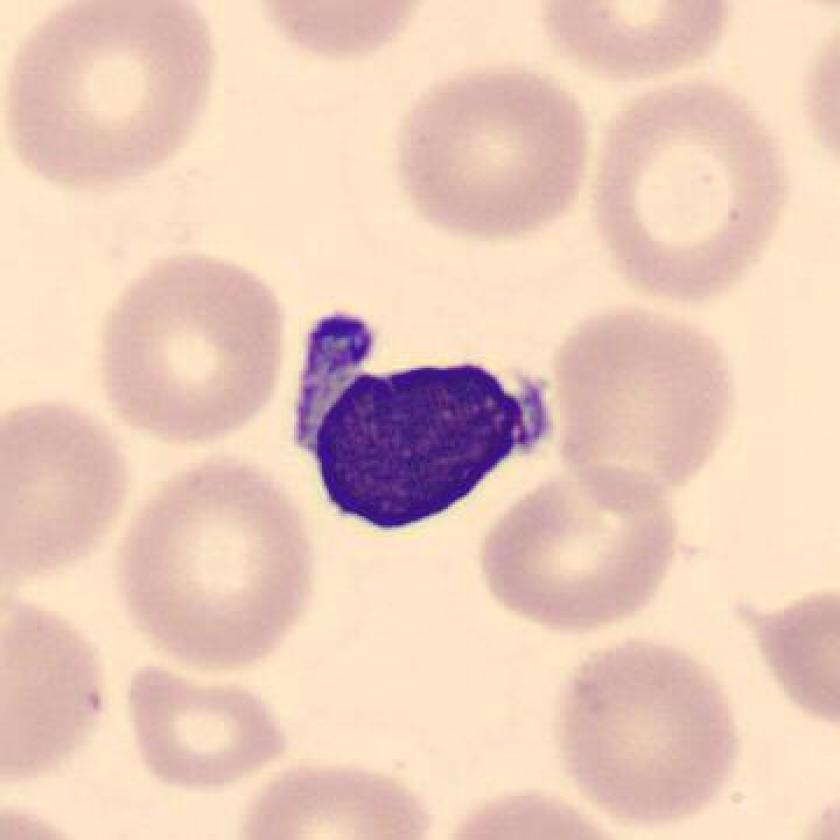lymphocyte: (288, 292, 556, 575)
